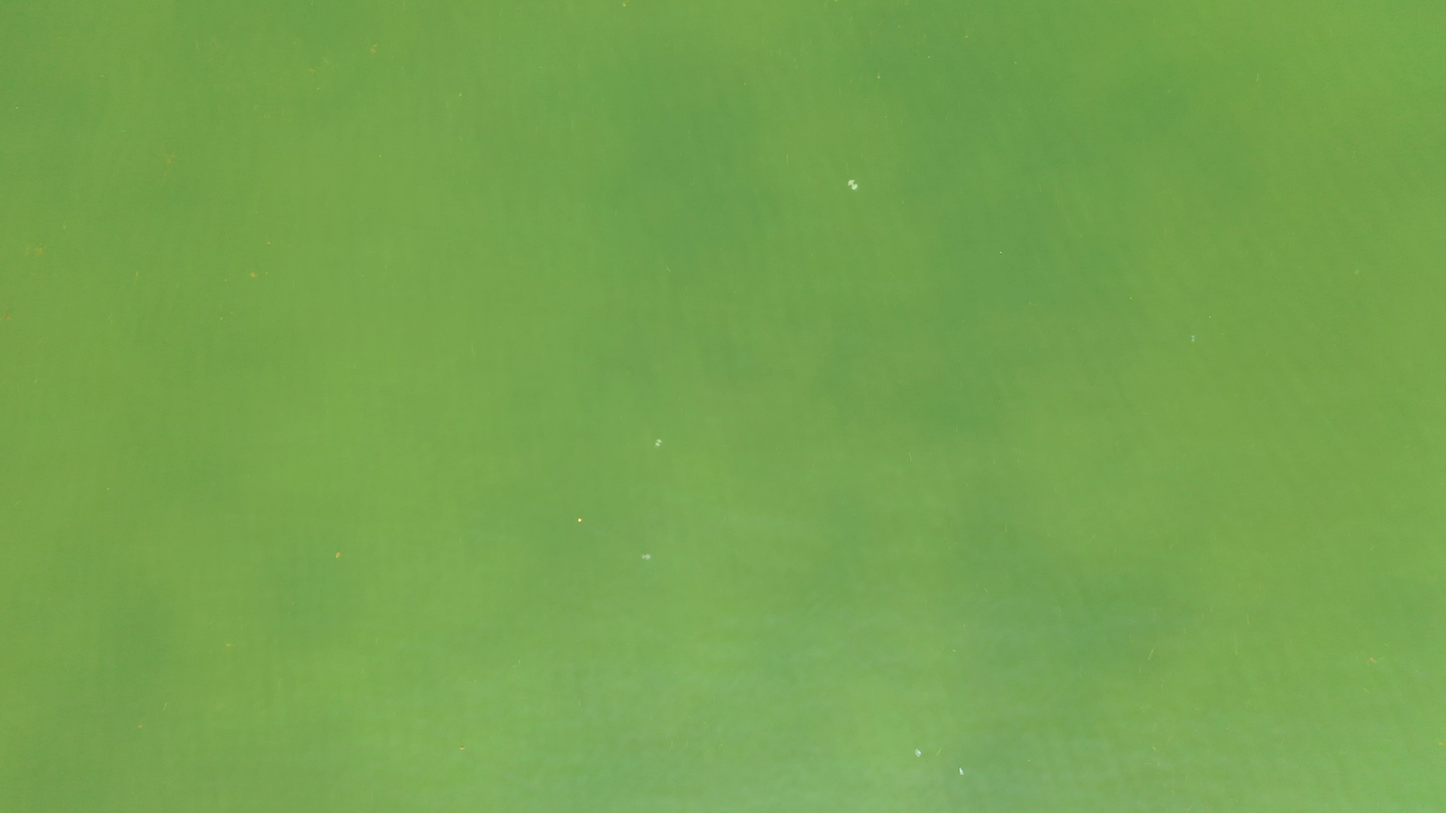meduse: (847, 180, 860, 190), (642, 552, 651, 561), (655, 438, 662, 447), (1190, 335, 1197, 342)
